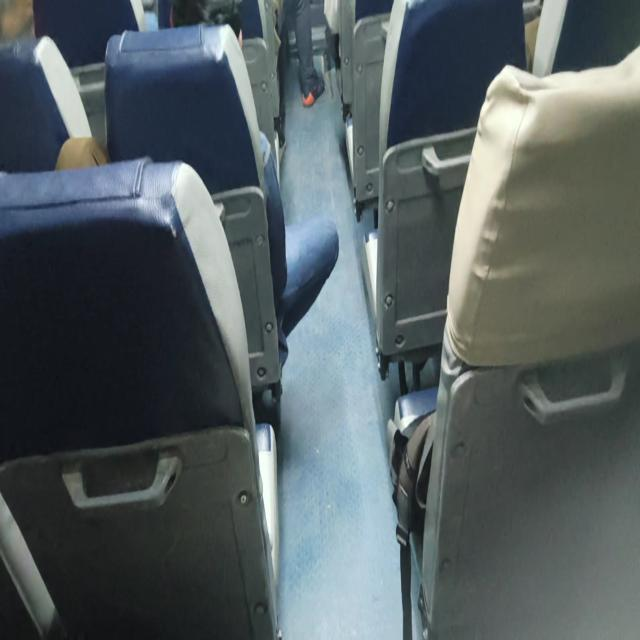person: (390, 42, 640, 637), (54, 133, 284, 436), (168, 1, 339, 371), (278, 0, 325, 108), (54, 134, 110, 170)
